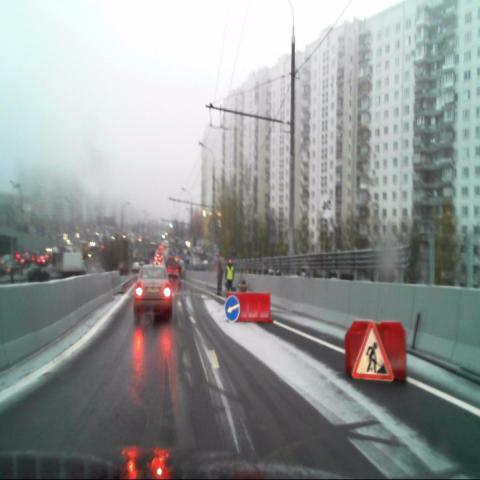1_25: (354, 322, 392, 381)
3_25: (320, 192, 333, 216)
